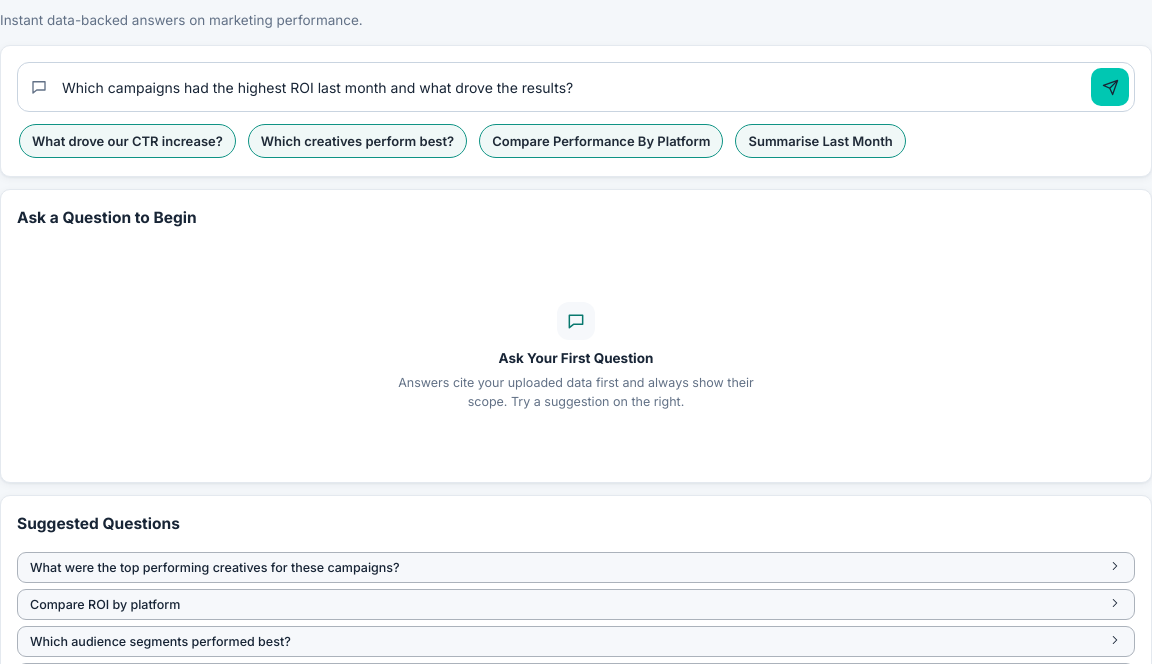
Test case: AskPage answer scope › shows a retryable platform failure in the context panel after an answer
The width and height of the screenshot is (1152, 664).
Click the button named "Ask". click: (1110, 87)
box: [1091,68,1129,106]
(page scrolled)
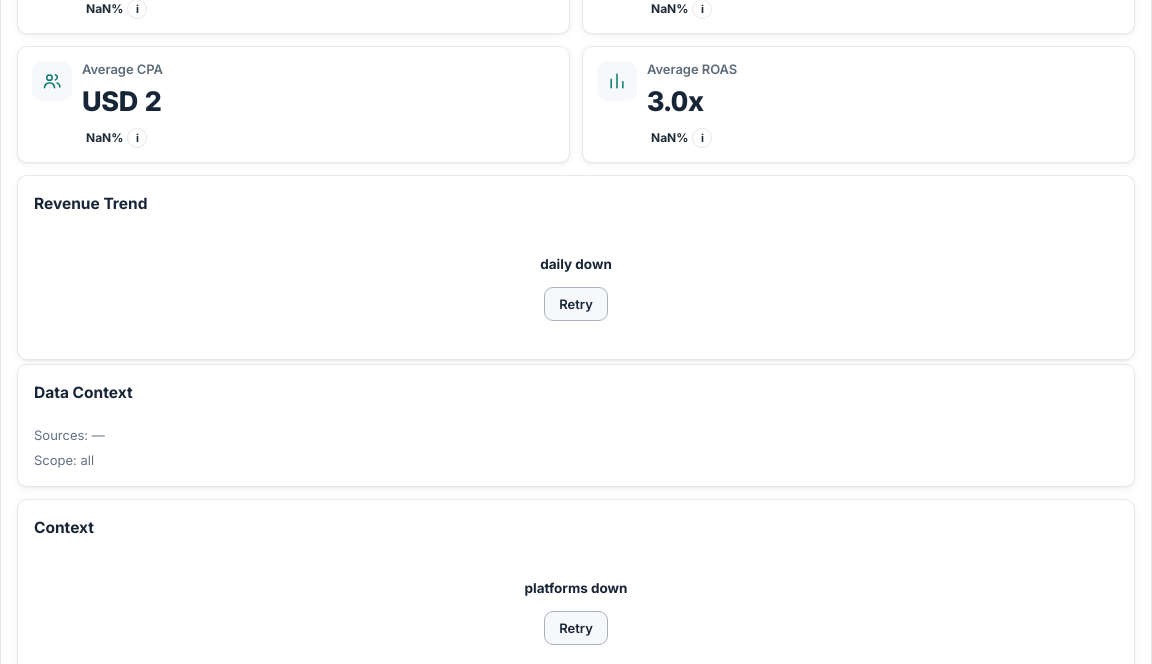
Result: the text "daily down" is shown at [540,254,612,275]
Result: the text "platforms down" is shown at [524,578,628,599]
Result: the button "Retry" below "daily down" is shown at [544,287,608,321]
